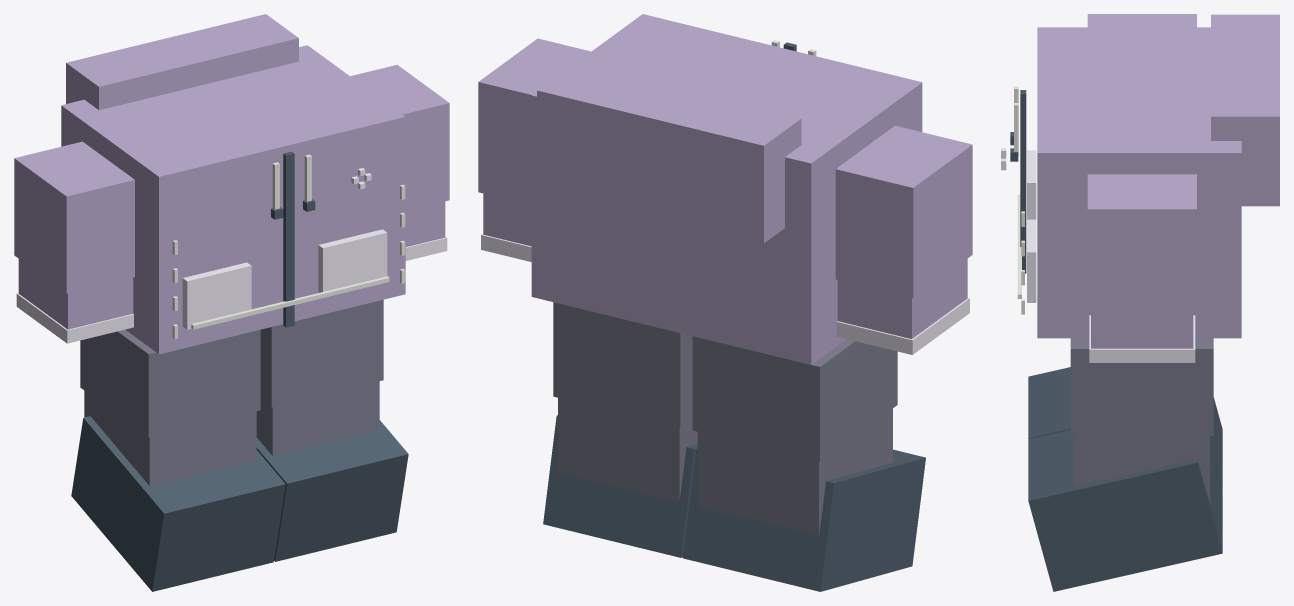
File: hoodie-lavender.glb
3 renders of one model, left to right at view 1: azimuth 30°, elevation 25°; view 2: azimuth 150°, elevation 25°; view 3: azimuth 270°, elevation 25°, orthographic. The views are drawn at different scales.
Parts seen in each view (by area): view 1: jacket, shoe-Right, upper-sleeve-Right, trouser-Right, shoe-Left, hood-back, trouser-Left, lower-trouser-Right, upper-sleeve-Left, lower-trouser-Left, lower-sleeve-Right, pocket--1 (+6 smaller); view 2: jacket, hood-back, upper-sleeve-Right, trouser-Right, shoe-Right, trouser-Left, lower-trouser-Right, lower-trouser-Left, upper-sleeve-Left, shoe-Left, lower-sleeve-Right, cuff-Right (+2 smaller); view 3: jacket, shoe-Left, upper-sleeve-Left, trouser-Left, hood-back, lower-trouser-Left, lower-sleeve-Left, shoe-Right, cuff-Left, upper-sleeve-Right, zip, pocket-1 (+2 smaller).
Part boxes in pixels (<box>): jacket: <box>61,45,405,354</box>; shoe-Right: <box>71,416,285,591</box>; upper-sleeve-Right: <box>14,141,134,293</box>; trouser-Right: <box>80,329,260,437</box>; shoe-Left: <box>256,420,408,561</box>; hood-back: <box>66,14,298,110</box>; trouser-Left: <box>260,299,383,407</box>; lower-trouser-Right: <box>84,391,256,485</box>; upper-sleeve-Left: <box>350,65,449,210</box>; lower-trouser-Left: <box>256,381,379,455</box>; lower-sleeve-Right: <box>18,259,133,329</box>; pocket--1: <box>182,262,251,329</box>; jacket: <box>531,14,922,364</box>; hood-back: <box>537,63,801,243</box>; upper-sleeve-Right: <box>835,125,972,298</box>; trouser-Right: <box>692,336,897,461</box>; shoe-Right: <box>682,449,925,591</box>; trouser-Left: <box>553,302,692,427</box>; lower-trouser-Right: <box>697,408,892,535</box>; lower-trouser-Left: <box>558,398,697,501</box>; upper-sleeve-Left: <box>478,38,590,204</box>; shoe-Left: <box>543,415,697,557</box>; lower-sleeve-Right: <box>837,259,967,338</box>; cuff-Right: <box>836,297,969,354</box>; jacket: <box>1037,27,1241,338</box>; shoe-Left: <box>1028,429,1222,591</box>; upper-sleeve-Left: <box>1087,174,1196,310</box>; trouser-Left: <box>1070,338,1213,435</box>; hood-back: <box>1211,14,1279,206</box>; lower-trouser-Left: <box>1074,436,1210,504</box>; lower-sleeve-Left: <box>1091,310,1193,348</box>; shoe-Right: <box>1028,367,1222,490</box>; cuff-Left: <box>1089,315,1195,362</box>; upper-sleeve-Right: <box>1087,14,1196,27</box>; zip: <box>1020,90,1026,273</box>; pocket-1: <box>1027,219,1036,302</box>.
Size of the model in its own units: 1.07 by 1.19 by 0.648.
